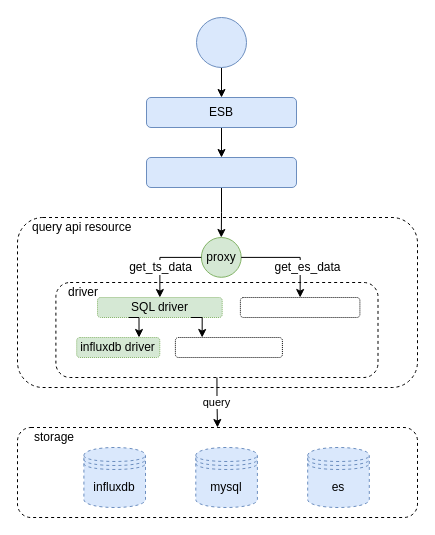
Some shapes in this 435 by 535 pixel diagram are drawn without their labels. The shapes that lost their labels are listed below. From the top down, each one's centre as x and y in pixels, then its label:
[221,42]: Request
[221,172]: API Services
[299,307]: ES driver(todo)
[228,347]: mysql driver(todo)
